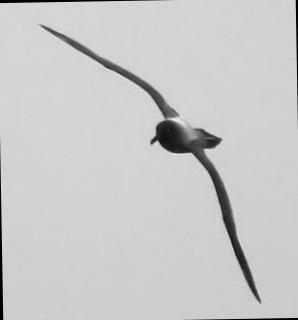bird: (30, 10, 270, 312)
